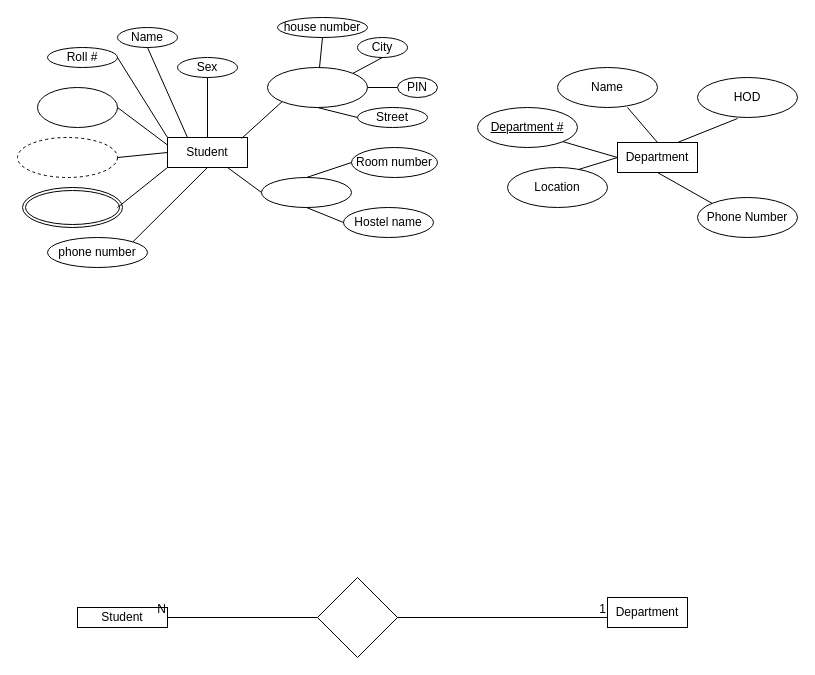
Some shapes in this 815 by 675 pixel diagram are drawn without their labels. The shapes that lost their labels are listed below. From the top down, each one's centre as x and y in pixels, then its label:
[77,107]: DOB
[317,87]: House Address
[67,157]: Age
[72,207]: Email
[306,192]: Local Address
[357,617]: belongs to
